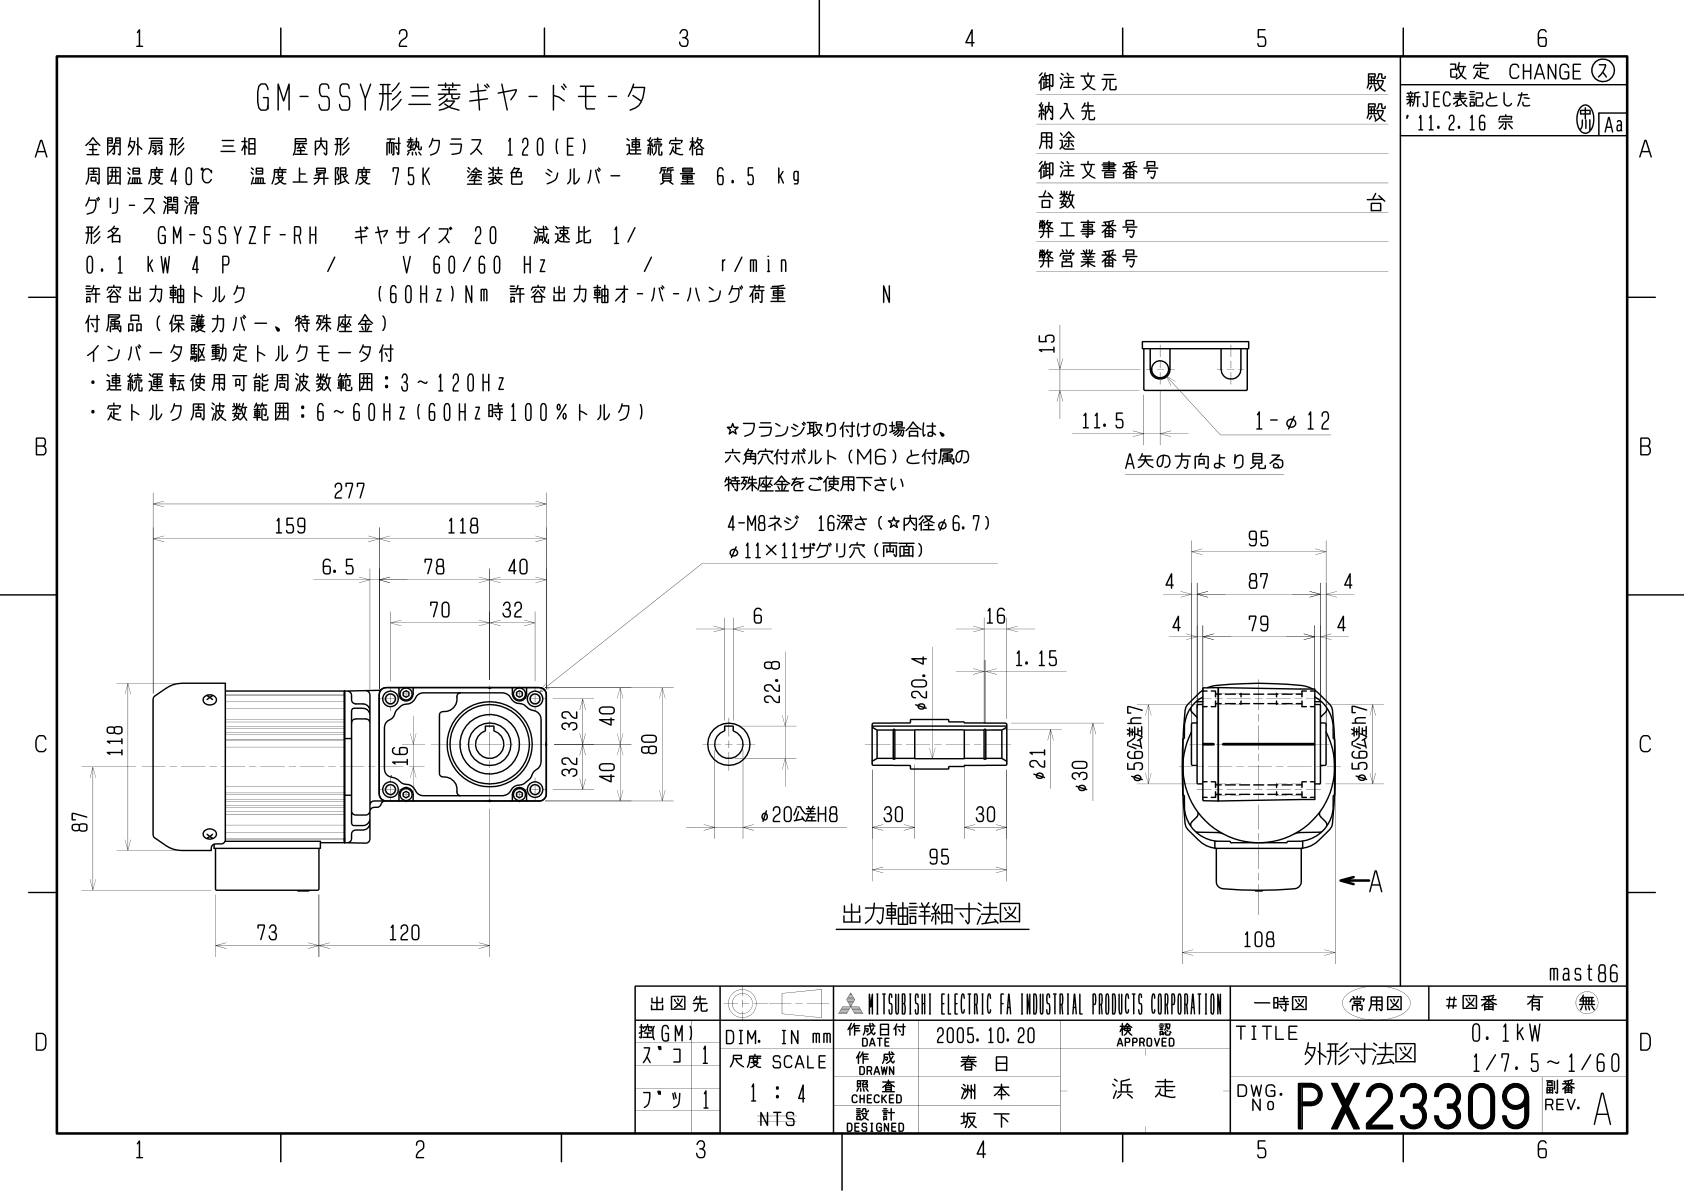GM_SSY_インバータ屋内_三相: (82, 443, 1392, 982)
